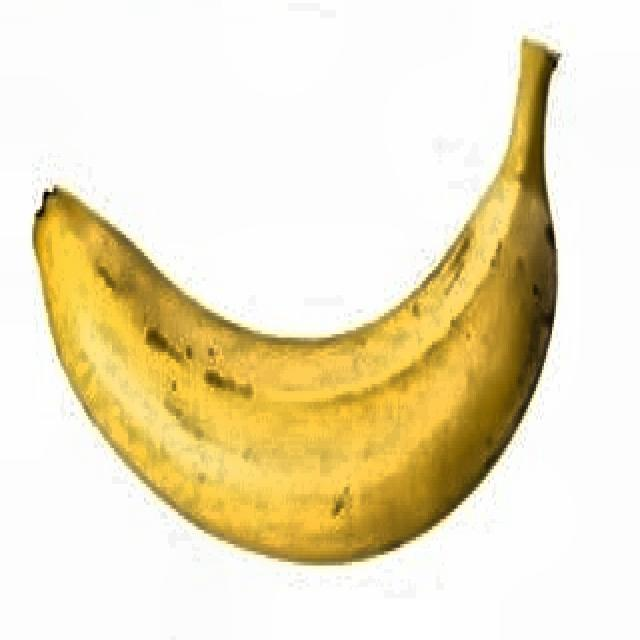Fruit: (9, 39, 615, 627)
